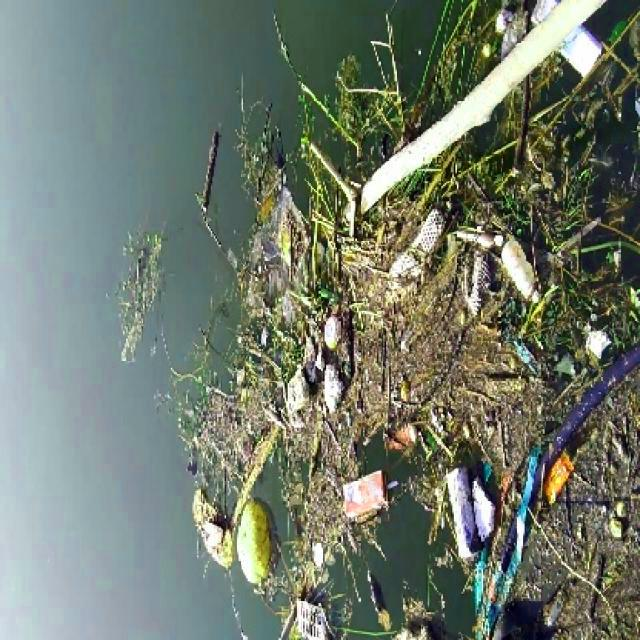Metal: (338, 462, 390, 524)
Trash: (232, 488, 272, 577)
